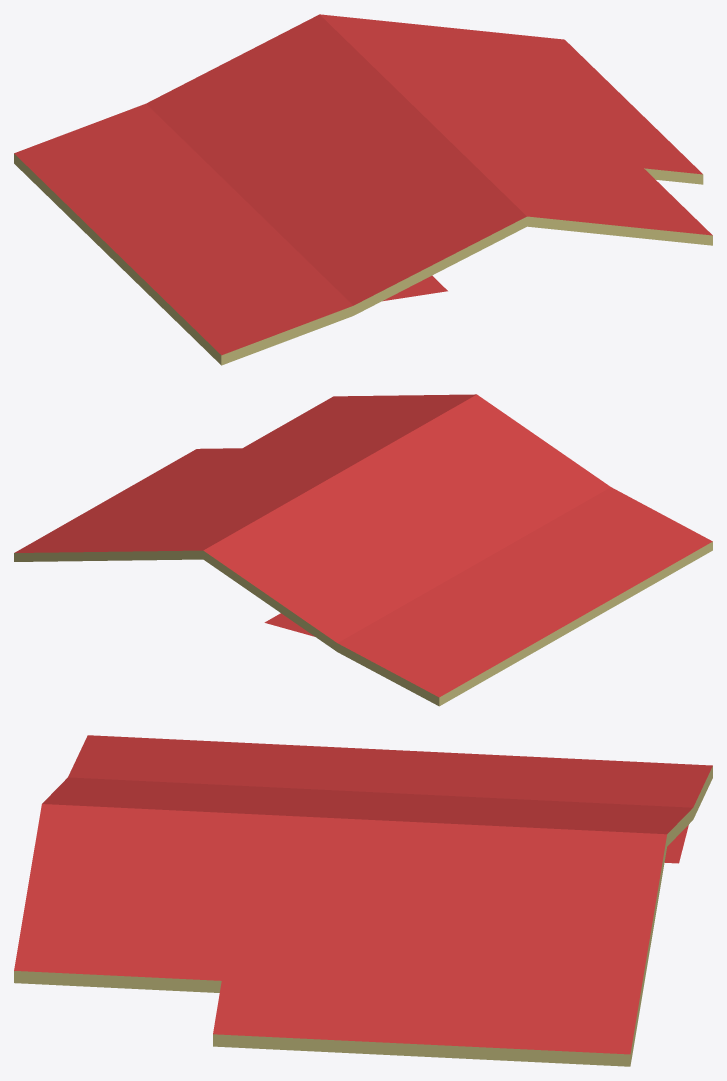
3 views of the same model, one above another, from view 1: azimuth 30°, elevation 25°; view 2: azimuth 150°, elevation 25°; view 3: azimuth 270°, elevation 25° (orthographic). The views are drawn at different scales.
Size of the model in its own units: 5.83 by 5.15 by 0.913.
